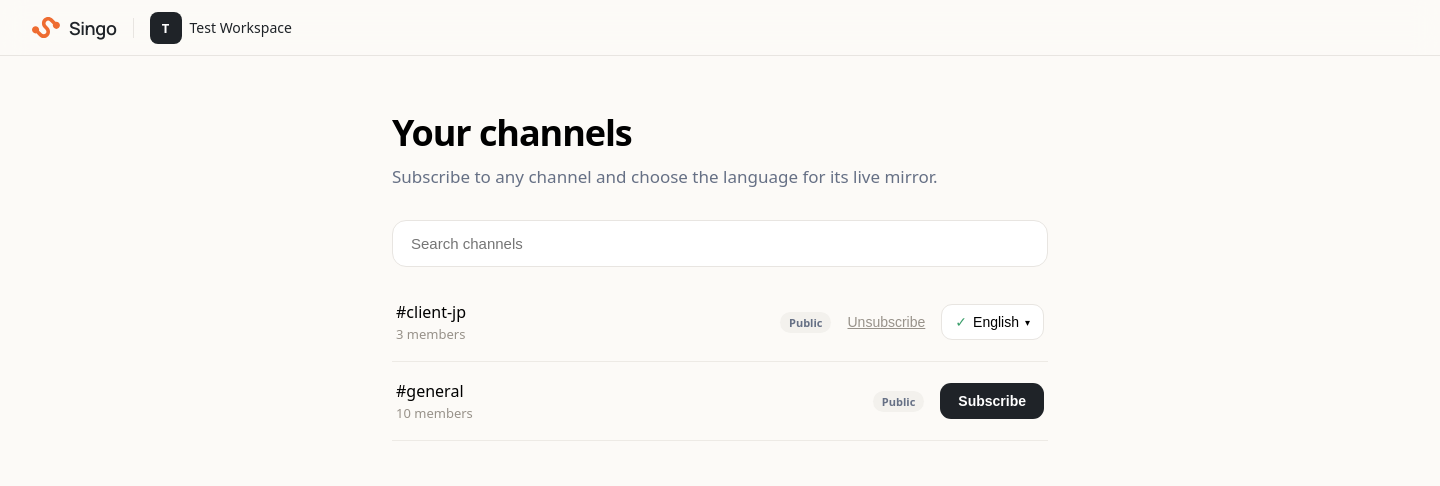
it: Settings — language selection › clicking language button opens option list
The width and height of the screenshot is (1440, 486).
Expected: the text "#client-jp" is shown, x1=396 y1=301 x2=466 y2=323
Click the button "✓ English ▾": (993, 322) x1=941 y1=304 x2=1044 y2=340
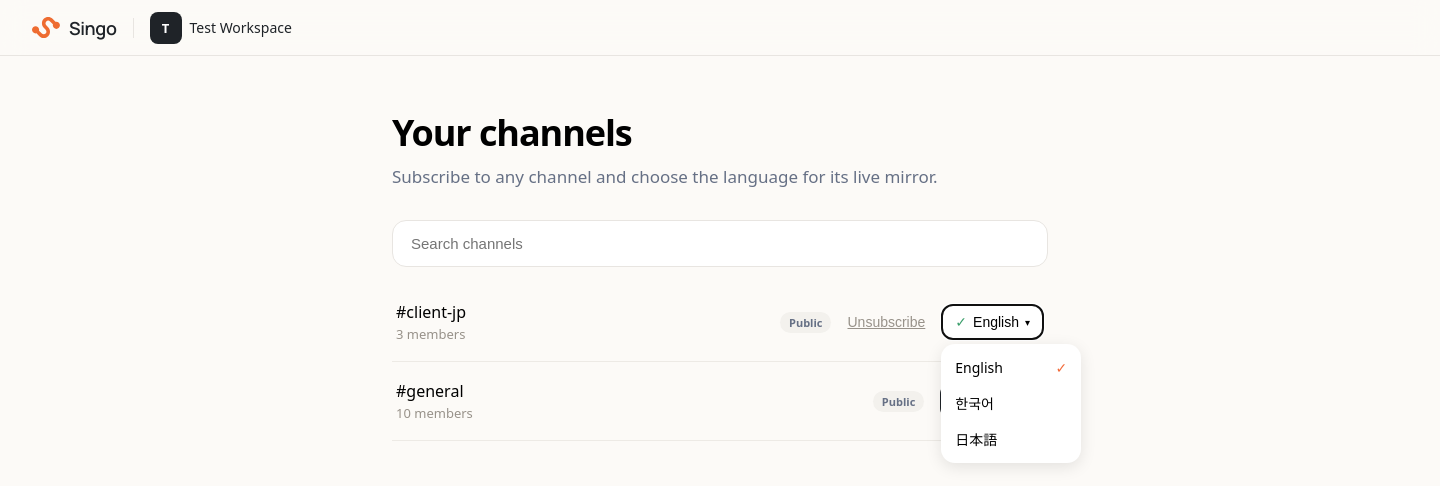
Expected: the option "한국어" is shown, x1=955 y1=394 x2=994 y2=413
